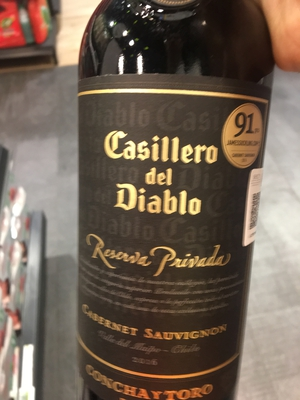casillero del diablo reserva privada cabernet sauvignon: (71, 16, 284, 400)
